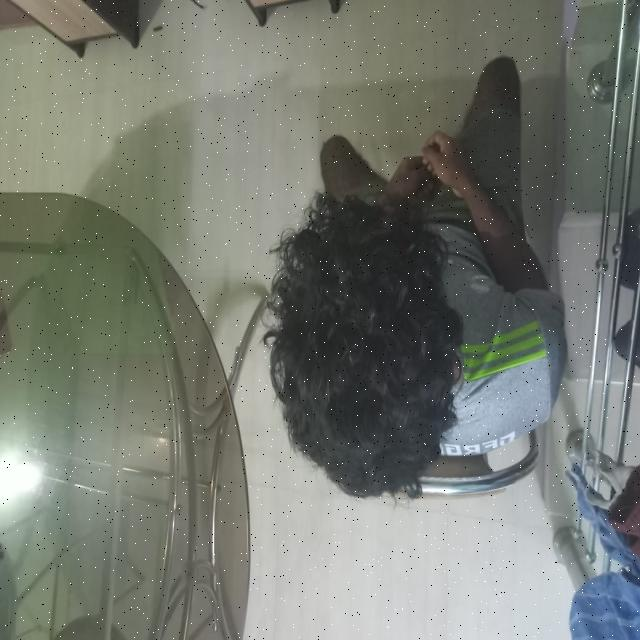humans: (256, 48, 576, 516)
